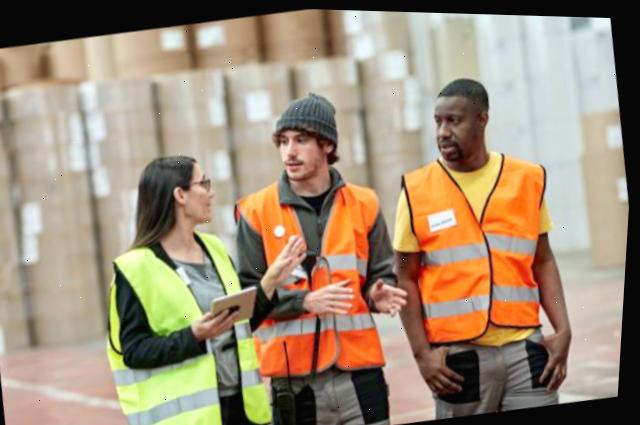vest: (232, 170, 401, 383), (396, 141, 566, 343), (100, 229, 256, 425)
